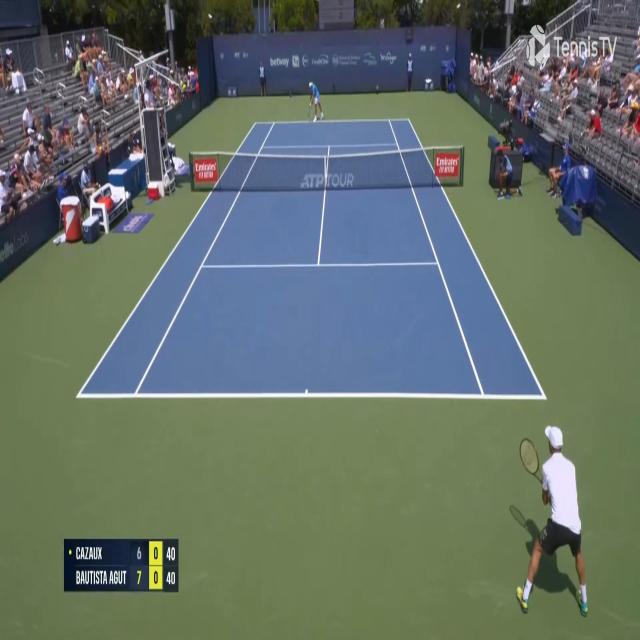tennis-player: (508, 422, 593, 619), (306, 78, 324, 122)
